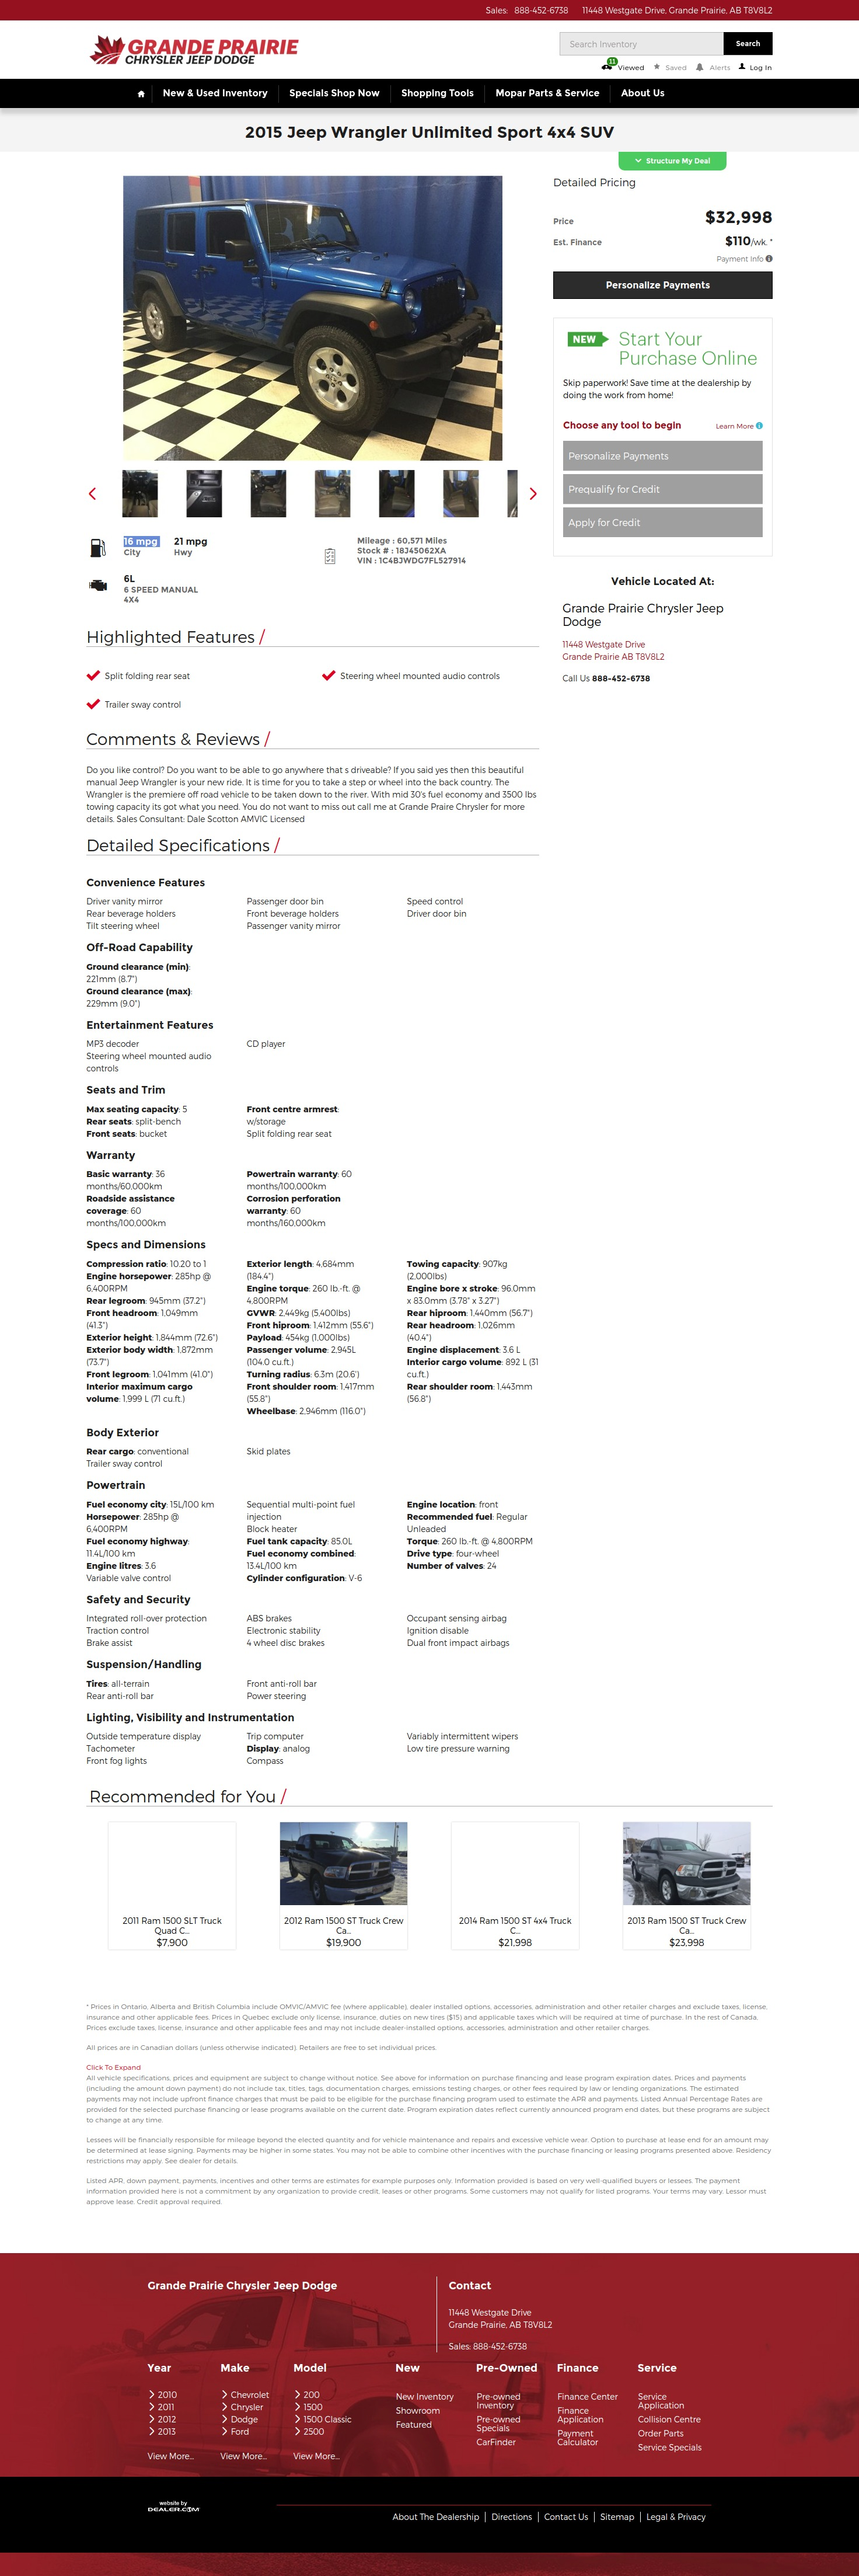car: (531, 488, 537, 501)
